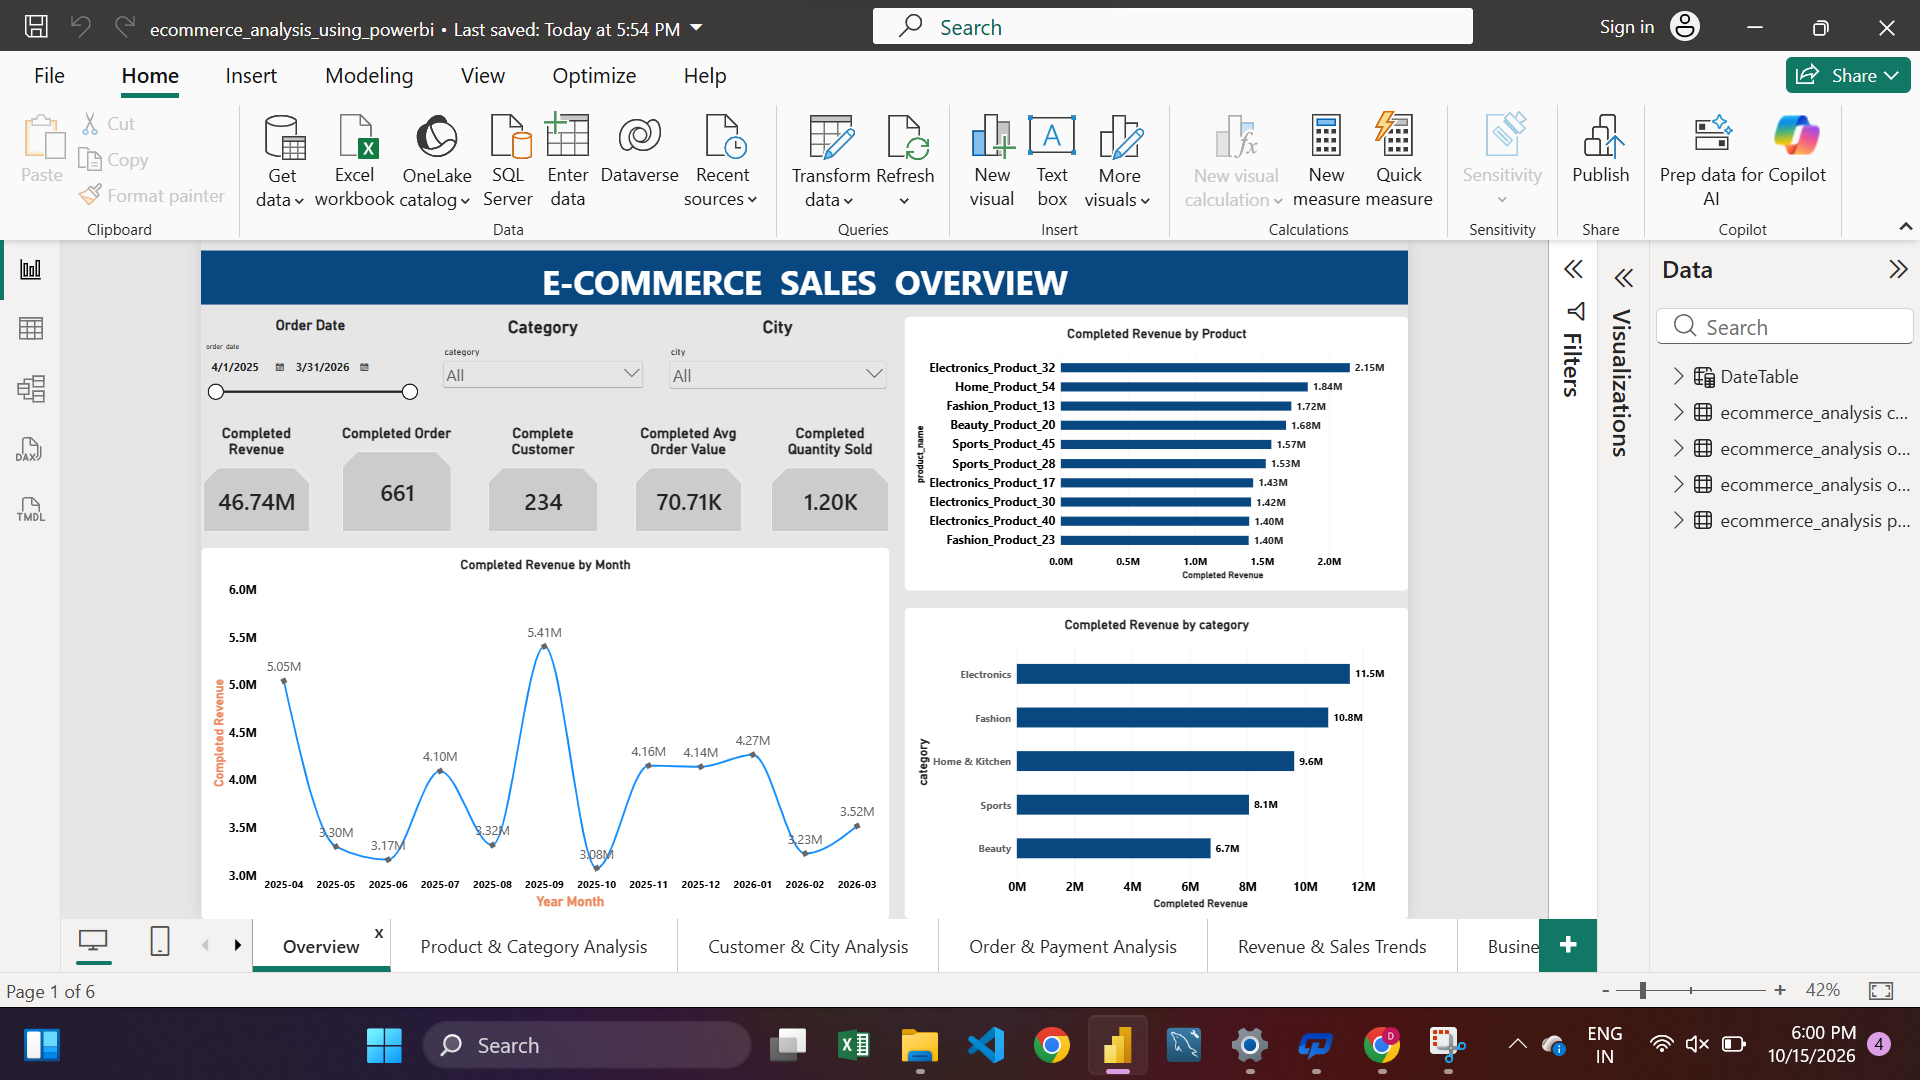

Layout of this report page (visuals, bound fields, positions):
{"tool":"powerbi","page":{"name":"Overview","canvas":[1920,1080],"ordinal":0},"visuals":[{"type":"cardVisual","title":"Completed Quantity Sold","fields":{"Data":["ecommerce_analysis order_items.Completed Quantity Sold"]},"box":[906.6,293.5,188.5,171.8],"z":0},{"type":"cardVisual","title":"Completed Revenue","fields":{"Data":["ecommerce_analysis order_items.Completed Revenue"]},"box":[2.4,293.5,171.8,171.8],"z":1000},{"type":"cardVisual","title":"Completed Order","fields":{"Data":["ecommerce_analysis order_items.Completed Orders"]},"box":[224.3,293.5,174.2,171.8],"z":2000},{"type":"cardVisual","title":"Complete Customer","fields":{"Data":["ecommerce_analysis order_items.customers with completed orders"]},"box":[455.7,293.5,176.6,171.8],"z":3000},{"type":"slicer","title":"Order Date","fields":{"Values":["ecommerce_analysis orders.order_date"]},"box":[0,121.7,348.3,136],"z":4000},{"type":"slicer","title":"Category","fields":{"Values":["ecommerce_analysis products.category"]},"box":[379.4,121.7,329.3,136],"z":5000},{"type":"slicer","title":"City","fields":{"Values":["ecommerce_analysis customers.city"]},"box":[739.6,121.7,355.5,136],"z":6000},{"type":"textbox","box":[0,16.7,1920.7,85.9],"z":7000},{"type":"cardVisual","title":"Completed Avg Order Value","fields":{"Data":["ecommerce_analysis order_items.Completed AOV"]},"box":[689.5,293.5,171.8,171.8],"z":8000},{"type":"clusteredBarChart","title":"Completed Revenue by Product ","fields":{"Y":["ecommerce_analysis order_items.Completed Revenue"],"Category":["ecommerce_analysis products.product_name"]},"box":[1119,121.7,801.7,436.6],"z":9000},{"type":"lineChart","title":"Completed Revenue by Month ","fields":{"Category":["DateTable.Year Month"],"Y":["ecommerce_analysis order_items.Completed Revenue"]},"box":[0,489.1,1095.1,591.7],"z":10000},{"type":"clusteredBarChart","title":"Completed Revenue by category","fields":{"Y":["ecommerce_analysis order_items.Completed Revenue"],"Category":["ecommerce_analysis products.category"]},"box":[1119,584.5,801.7,496.3],"z":11000}]}

Visuals, with their boxes on the page's 1920x1080 design canvas (x1, y1, x2, y2). These are canvas units, not pixel positions in the 1920x1080 screenshot, which may show the page scaled, cropped or inside an application window:
"Completed Quantity Sold" cardVisual: crop(907, 294, 1095, 465)
"Completed Revenue" cardVisual: crop(2, 294, 174, 465)
"Completed Order" cardVisual: crop(224, 294, 398, 465)
"Complete Customer" cardVisual: crop(456, 294, 632, 465)
"Order Date" slicer: crop(0, 122, 348, 258)
"Category" slicer: crop(379, 122, 709, 258)
"City" slicer: crop(740, 122, 1095, 258)
textbox: crop(0, 17, 1921, 103)
"Completed Avg Order Value" cardVisual: crop(690, 294, 861, 465)
"Completed Revenue by Product " clusteredBarChart: crop(1119, 122, 1921, 558)
"Completed Revenue by Month " lineChart: crop(0, 489, 1095, 1081)
"Completed Revenue by category" clusteredBarChart: crop(1119, 584, 1921, 1081)
